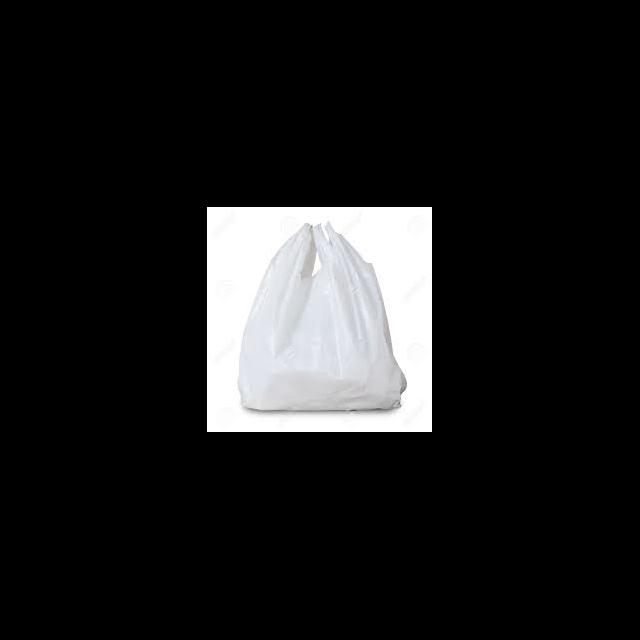plastic: (238, 220, 407, 410)
